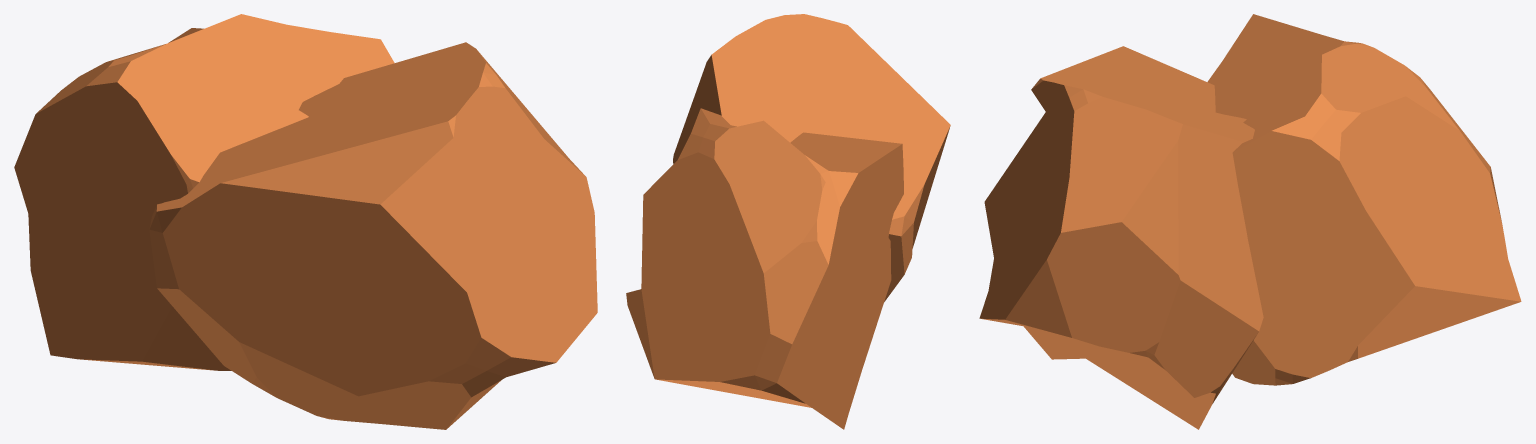
Rendered from Rocher_4.fbx.
The picture shows the model from 3 angles, left to right: view 1: azimuth 30°, elevation 25°; view 2: azimuth 150°, elevation 25°; view 3: azimuth 270°, elevation 25°; orthographic projection. The views are drawn at different scales.
Visible parts, largest first — view 1: Куб.005; view 2: Куб.005; view 3: Куб.005.
Boxes of the visible parts, left/top/right/bottom form: Куб.005: left=14, top=14, right=597, bottom=429; Куб.005: left=626, top=14, right=950, bottom=429; Куб.005: left=979, top=14, right=1521, bottom=429.
Size of the model in its own units: 134 by 144 by 204.
